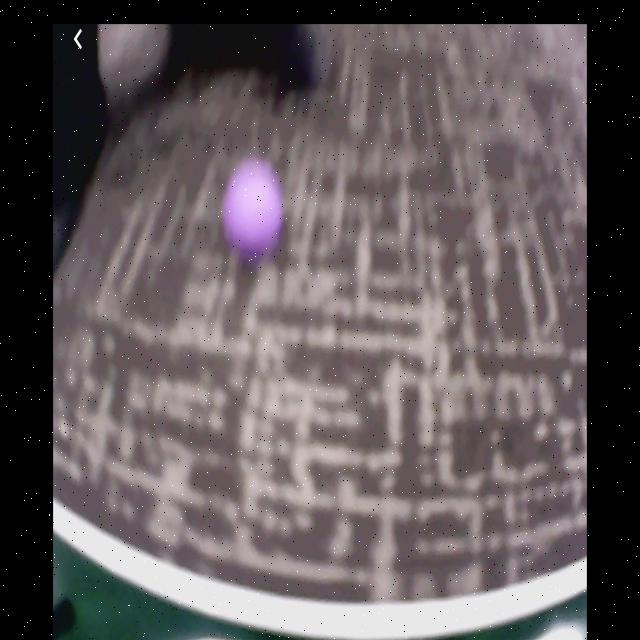ball: (222, 156, 286, 261)
